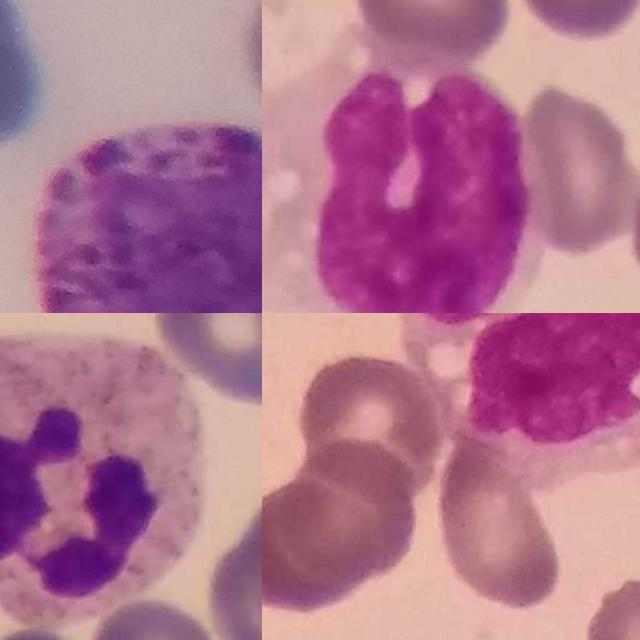Basophil: (33, 115, 262, 313)
Monocyte: (262, 57, 530, 313), (402, 313, 640, 450)
Neutrophil: (0, 331, 204, 627)
